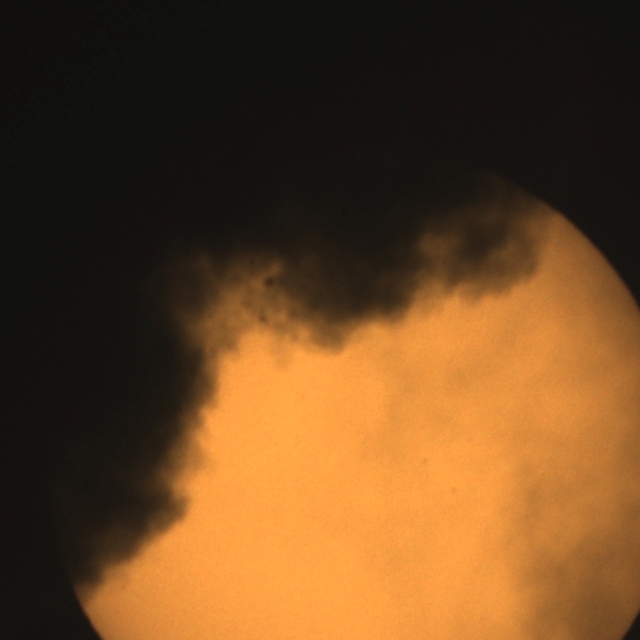sunspot: (450, 486, 458, 495)
